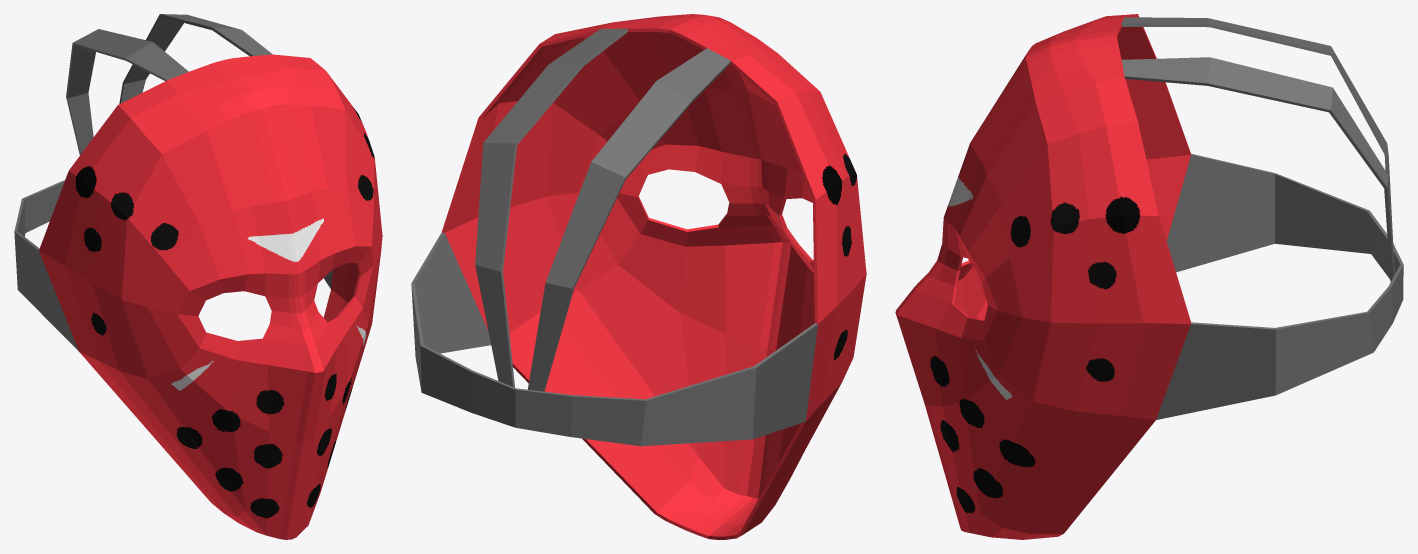
File: HockeyMask.fbx
3 renders of one model, left to right at view 1: azimuth 30°, elevation 25°; view 2: azimuth 150°, elevation 25°; view 3: azimuth 270°, elevation 25°, orthographic. The views are drawn at different scales.
Visible parts, largest first — view 1: Hockey Sharp Export; view 2: Hockey Sharp Export; view 3: Hockey Sharp Export.
Part boxes in pixels (x1=…): Hockey Sharp Export: x1=14, y1=14, x2=382, y2=539; Hockey Sharp Export: x1=411, y1=14, x2=866, y2=539; Hockey Sharp Export: x1=895, y1=14, x2=1403, y2=539.
Size of the model in its own units: 24.24 by 33.09 by 30.57.
1 material, 1 textured.
